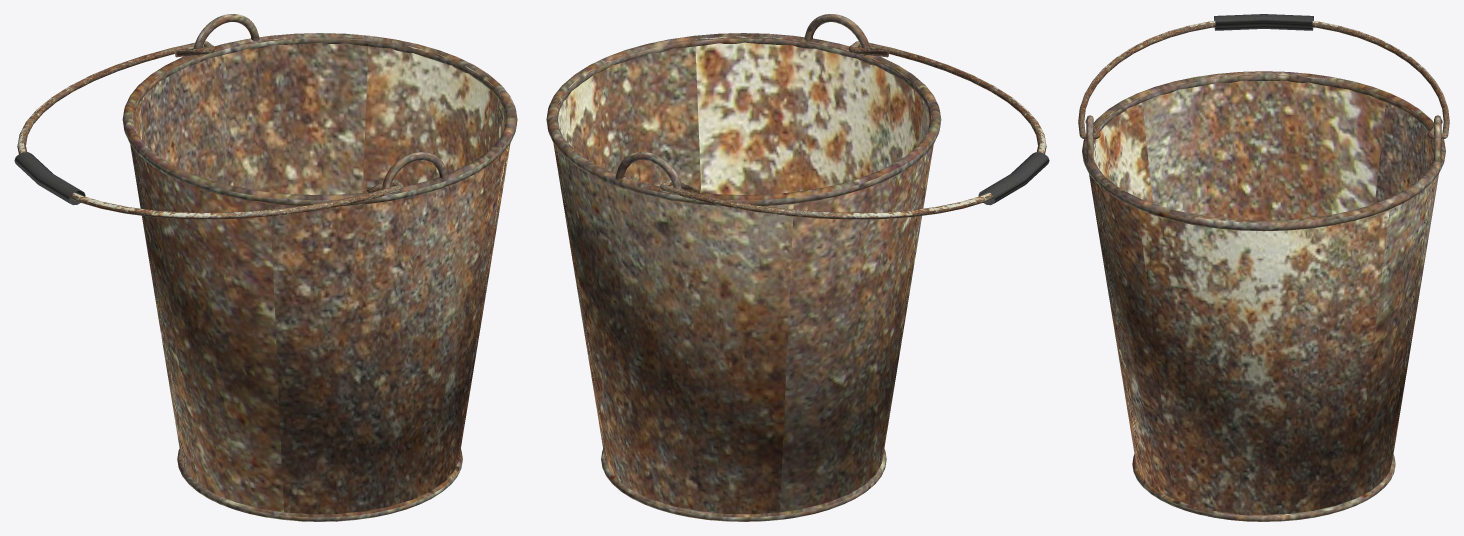
3 views of the same model, side by side, from view 1: azimuth 30°, elevation 25°; view 2: azimuth 150°, elevation 25°; view 3: azimuth 270°, elevation 25° (orthographic). The views are drawn at different scales.
Visible parts, largest first — view 1: Circle, Torus; view 2: Circle, Torus; view 3: Circle, Torus.
Boxes of the visible parts, x1,y1,x2,y2 form: Circle: [122, 14, 517, 521]; Torus: [14, 41, 403, 219]; Circle: [546, 14, 941, 521]; Torus: [660, 41, 1049, 219]; Circle: [1082, 71, 1445, 521]; Torus: [1078, 14, 1449, 139].
Bounding box in the file's own units: 3.78 × 3.02 × 2.91.
2 materials, 2 textured.
